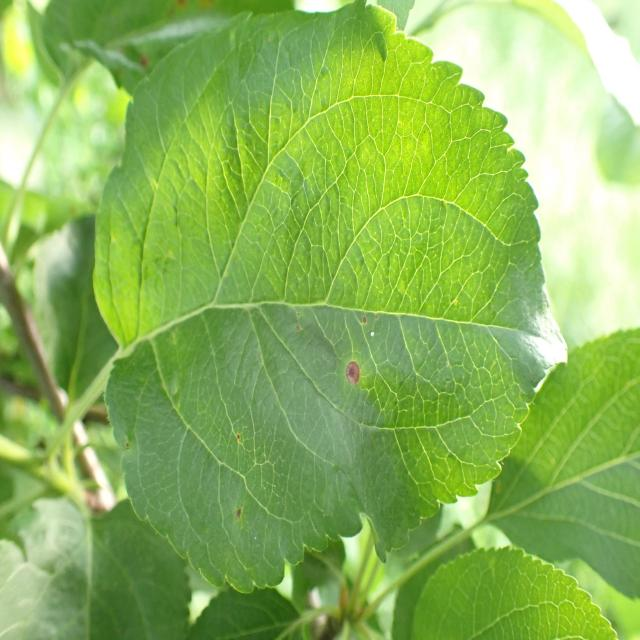Black Rot: (334, 345, 368, 443)
